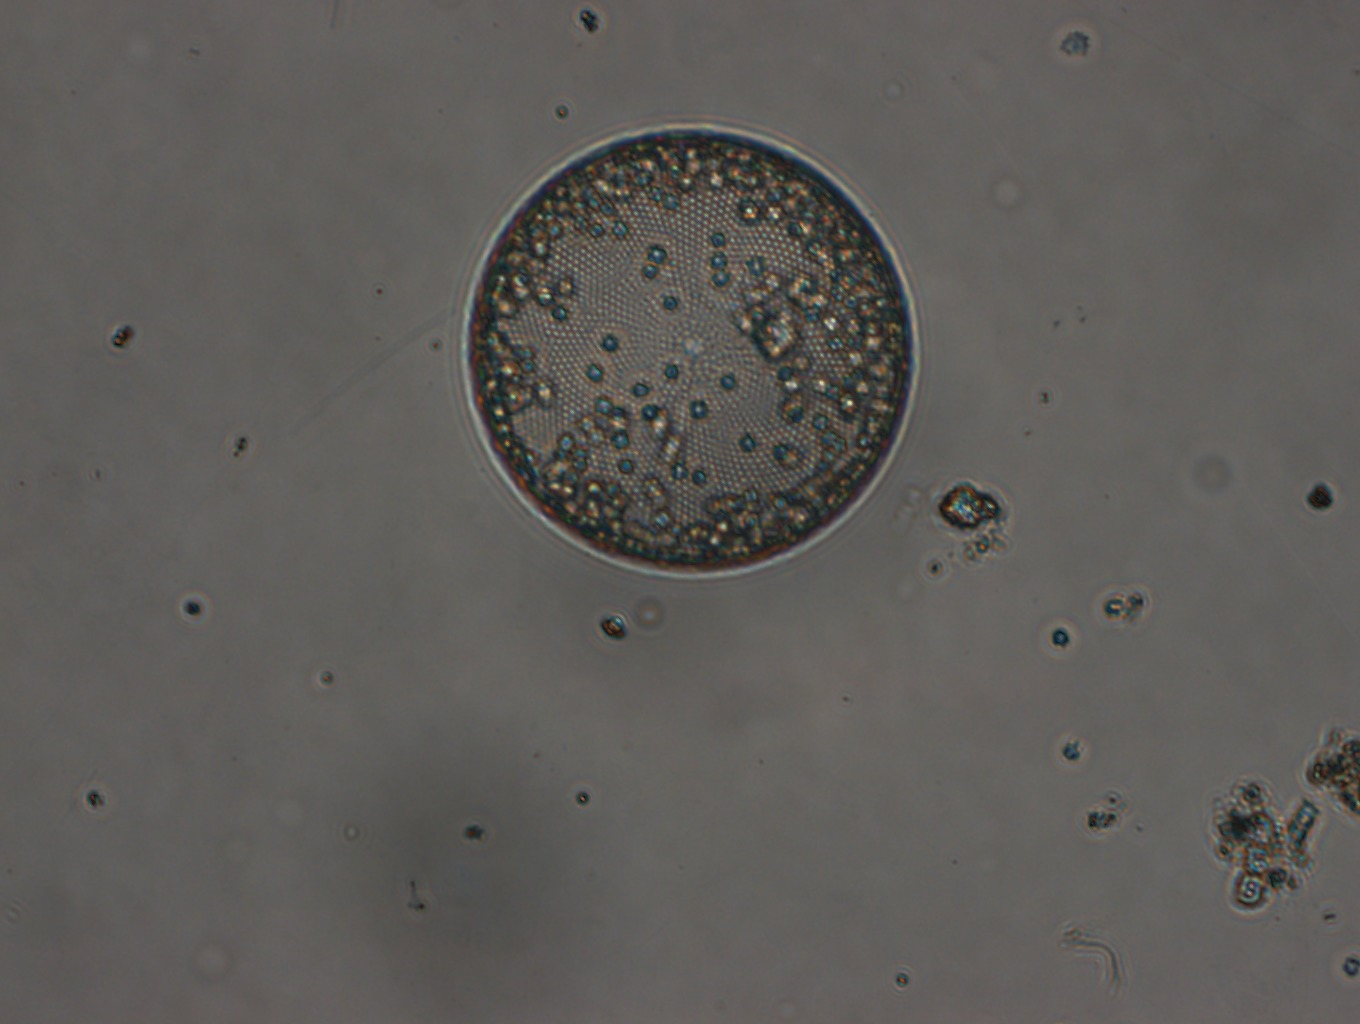coscinodiscus: (450, 119, 934, 580)
